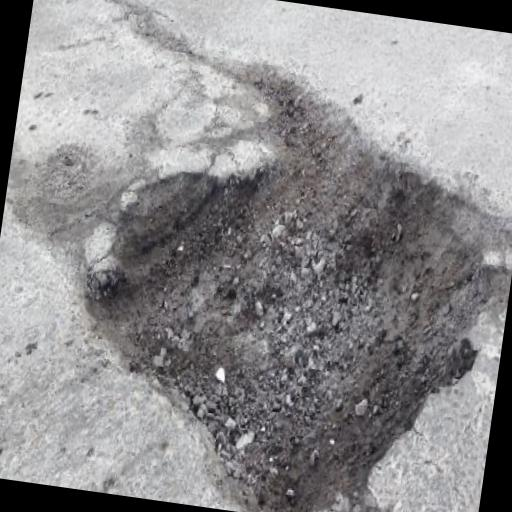pothole: (54, 47, 512, 512)
